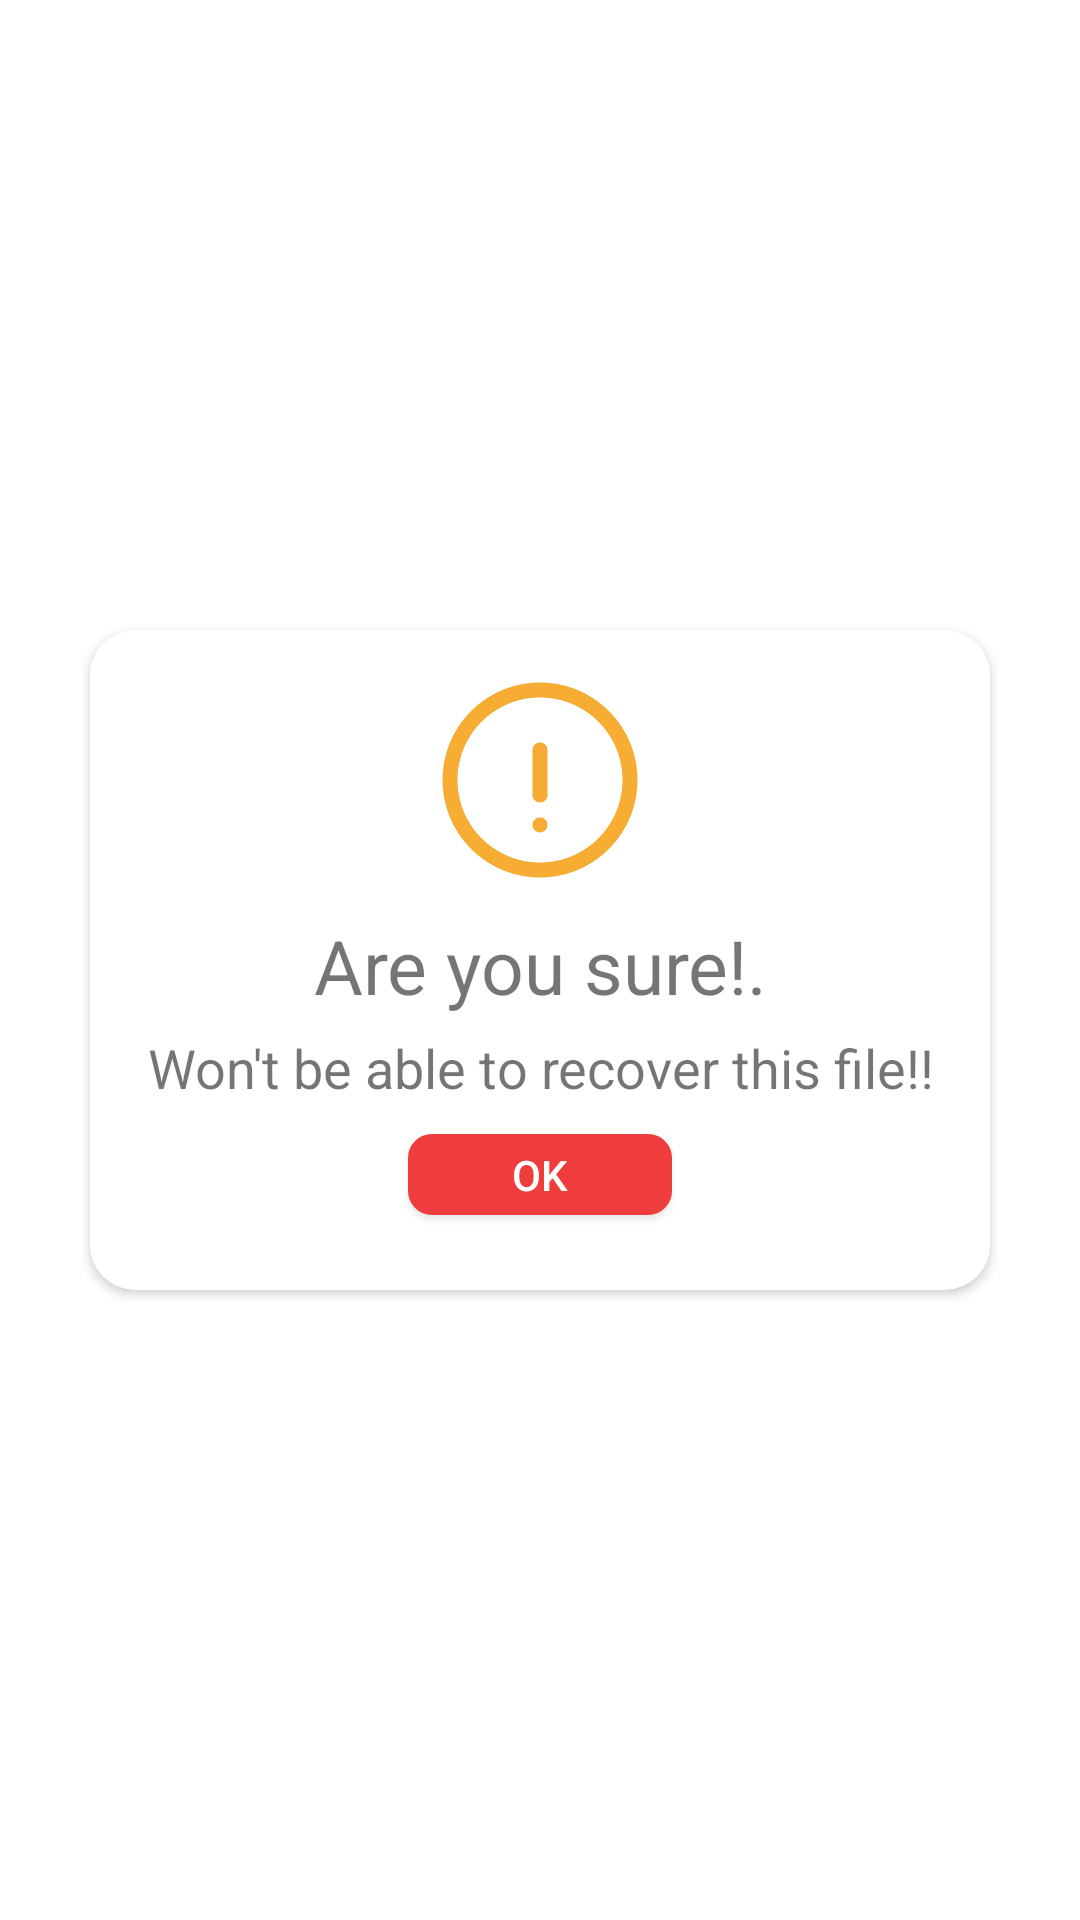

Screen size 1080x1920. Icon name, then its center in pixels as (x=x, y=y):
exclamation: (x=540, y=780)
